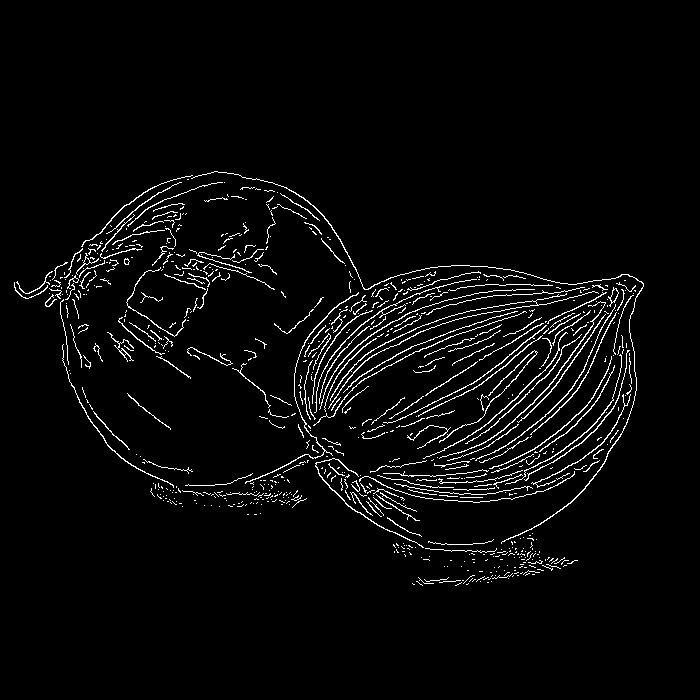red_onion: (2, 142, 365, 525), (296, 260, 665, 559)
